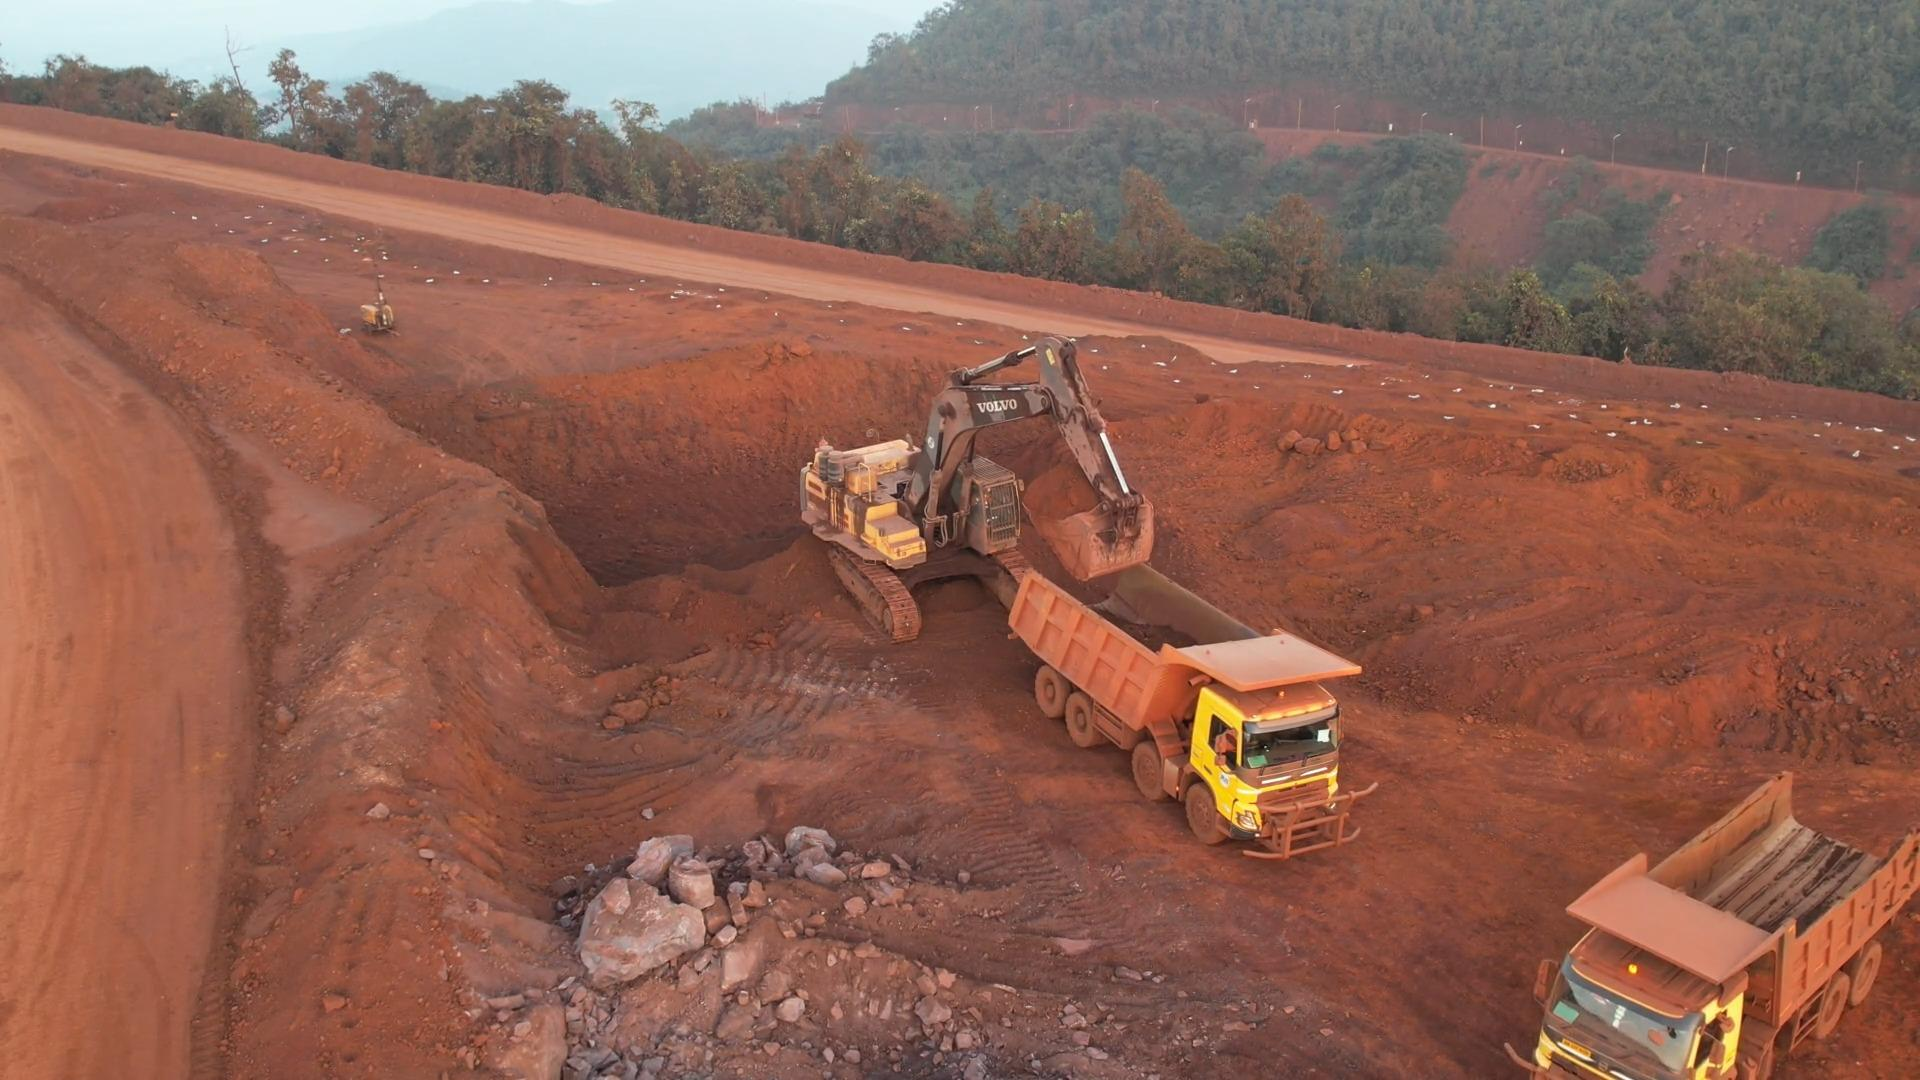excavator: (807, 339, 1135, 585)
